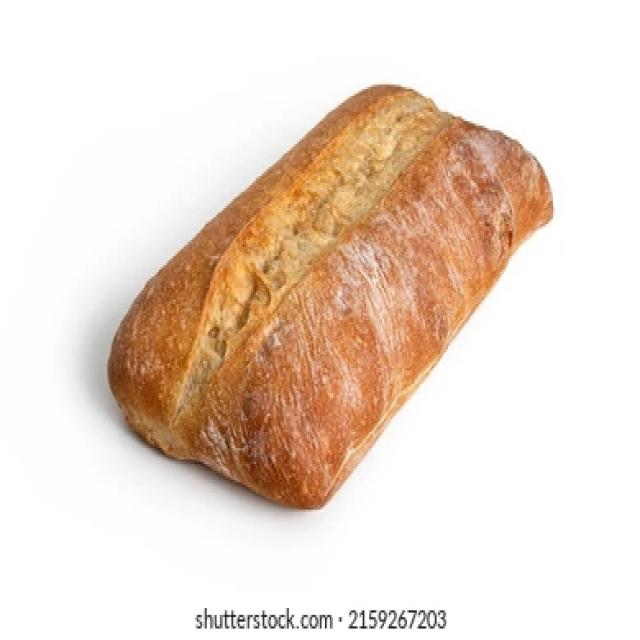Ciabatta: (108, 87, 551, 505)
